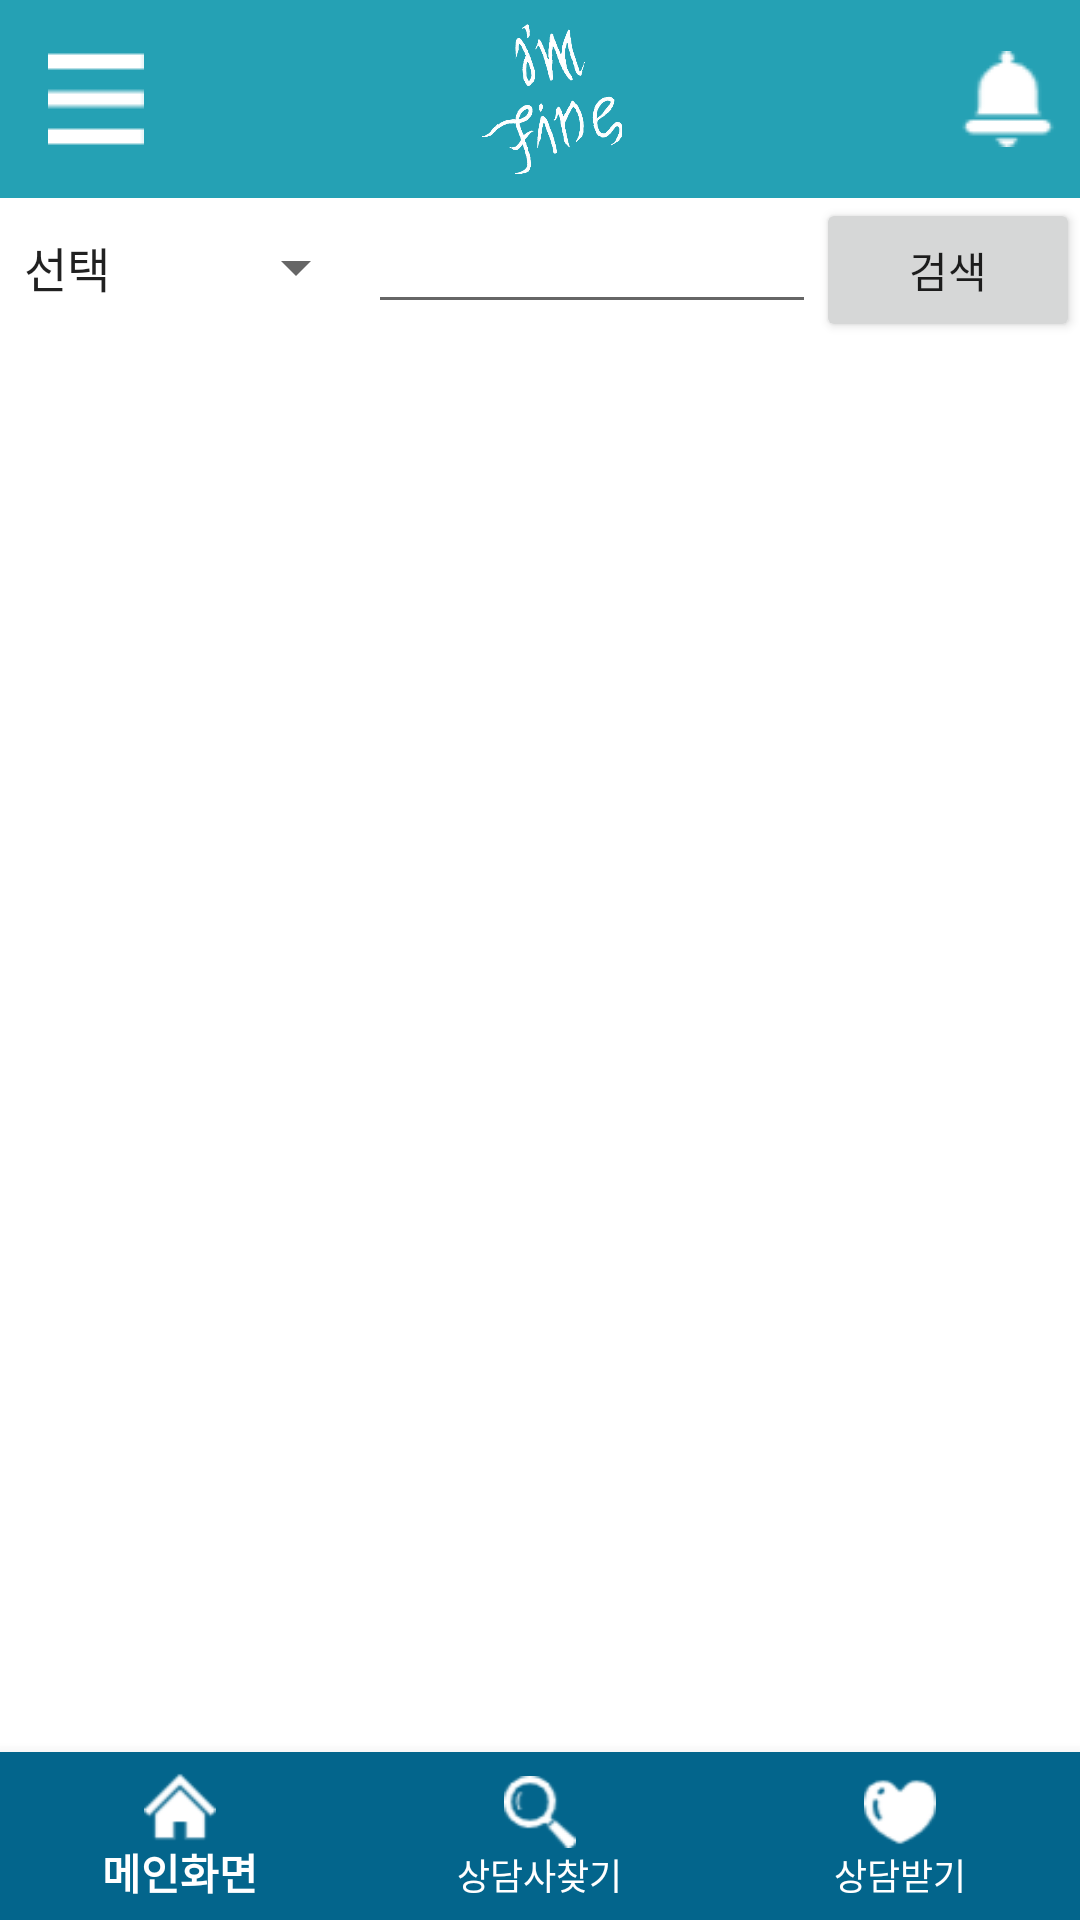

Icons on this 1080px x 1920px Android screen, each with the point to tap as point (x, y):
bell: point (1008, 99)
menu: point (96, 99)
